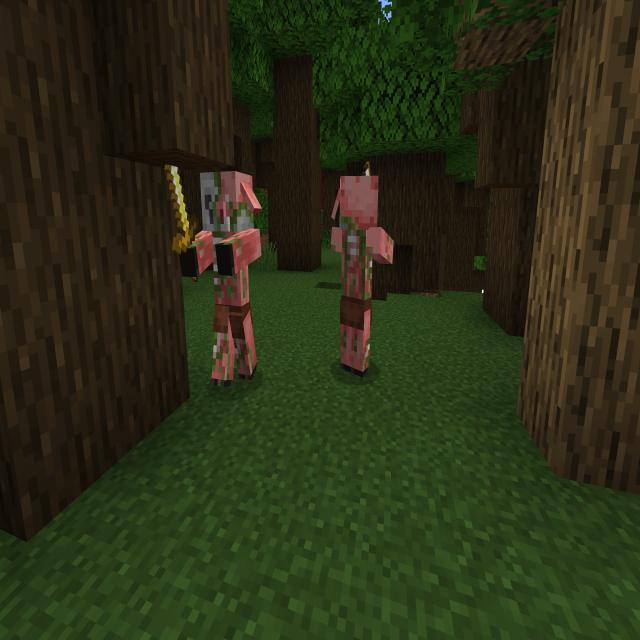Zombified Piglin: (162, 151, 264, 392), (330, 158, 395, 380)
